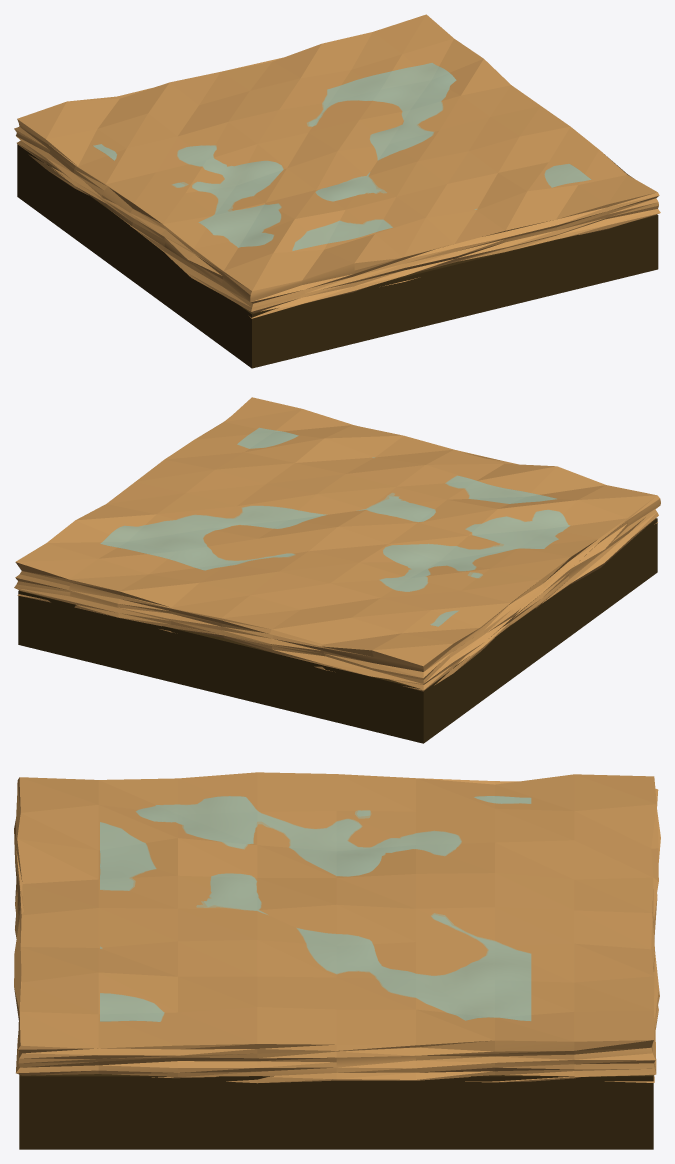
File: FLOOR2.fbx
3 views of the same model, one above another, from view 1: azimuth 30°, elevation 25°; view 2: azimuth 150°, elevation 25°; view 3: azimuth 270°, elevation 25° (orthographic). The views are drawn at different scales.
Visible parts, largest first — view 1: Cube_2, Cube, Cube_1, WATER; view 2: Cube_2, Cube, Cube_1, WATER; view 3: Cube_2, WATER, Cube, Cube_1.
Part boxes in pixels (left/top/right/bottom): Cube_2: left=14, top=14, right=660, bottom=318; Cube: left=17, top=170, right=658, bottom=368; Cube_1: left=17, top=144, right=658, bottom=341; WATER: left=93, top=63, right=590, bottom=250; Cube_2: left=14, top=397, right=660, bottom=691; Cube: left=18, top=545, right=657, bottom=743; Cube_1: left=18, top=518, right=657, bottom=716; WATER: left=100, top=427, right=569, bottom=626; Cube_2: left=14, top=772, right=660, bottom=1083; WATER: left=100, top=796, right=531, bottom=1021; Cube: left=19, top=1113, right=653, bottom=1149; Cube_1: left=19, top=1074, right=653, bottom=1112.
Size of the model in its own units: 410 by 77.6 by 408.
